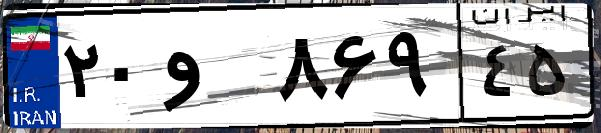0: (110, 28, 158, 98)
2: (57, 26, 110, 100)
4: (475, 38, 525, 113)
5: (525, 38, 570, 115)
6: (330, 28, 385, 110)
8: (270, 28, 330, 110)
9: (385, 28, 445, 110)
و: (158, 20, 270, 120)
